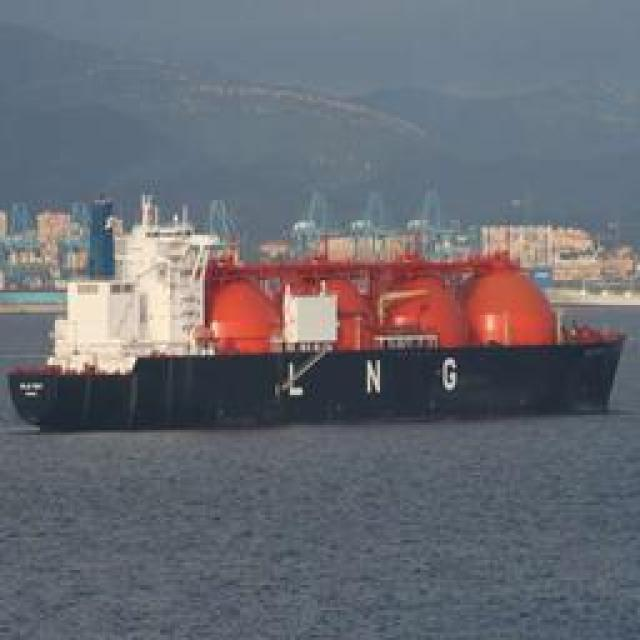ship2: (8, 188, 628, 432)
